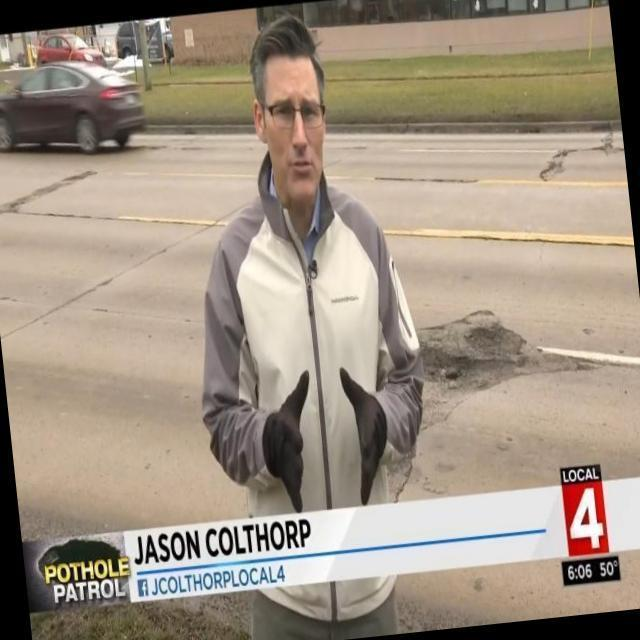Pothole: (422, 315, 586, 401), (540, 151, 568, 189)
